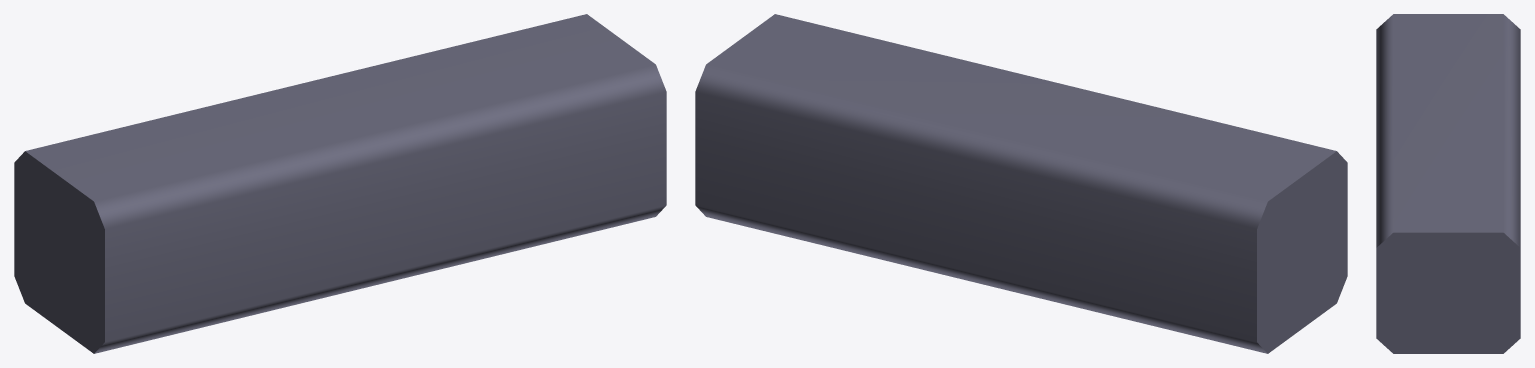
The model's file is mod_sc_tdm_roma_ground_007.fbx.
3 renders of one model, left to right at view 1: azimuth 30°, elevation 25°; view 2: azimuth 150°, elevation 25°; view 3: azimuth 270°, elevation 25°, orthographic. The views are drawn at different scales.
Parts seen in each view (by area): view 1: mod_sc_tdm_roma_ground_007; view 2: mod_sc_tdm_roma_ground_007; view 3: mod_sc_tdm_roma_ground_007.
Part boxes in pixels (left/top/right/bottom): mod_sc_tdm_roma_ground_007: left=14, top=14, right=666, bottom=353; mod_sc_tdm_roma_ground_007: left=695, top=14, right=1347, bottom=353; mod_sc_tdm_roma_ground_007: left=1376, top=14, right=1520, bottom=353.
Size of what is drawn, in the model's own units: 179 by 46.44 by 50.11.
1 material, 1 textured.
